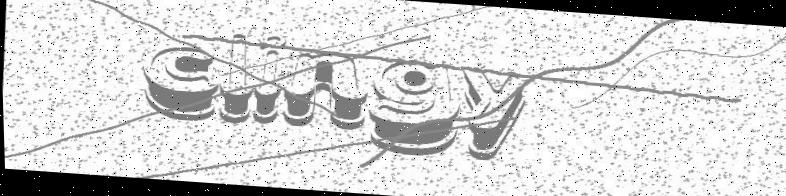c: (137, 44, 219, 125)
g: (363, 57, 462, 159)
i: (249, 32, 285, 126)
l: (215, 30, 257, 125)
n: (279, 48, 370, 132)
y: (457, 67, 528, 165)
